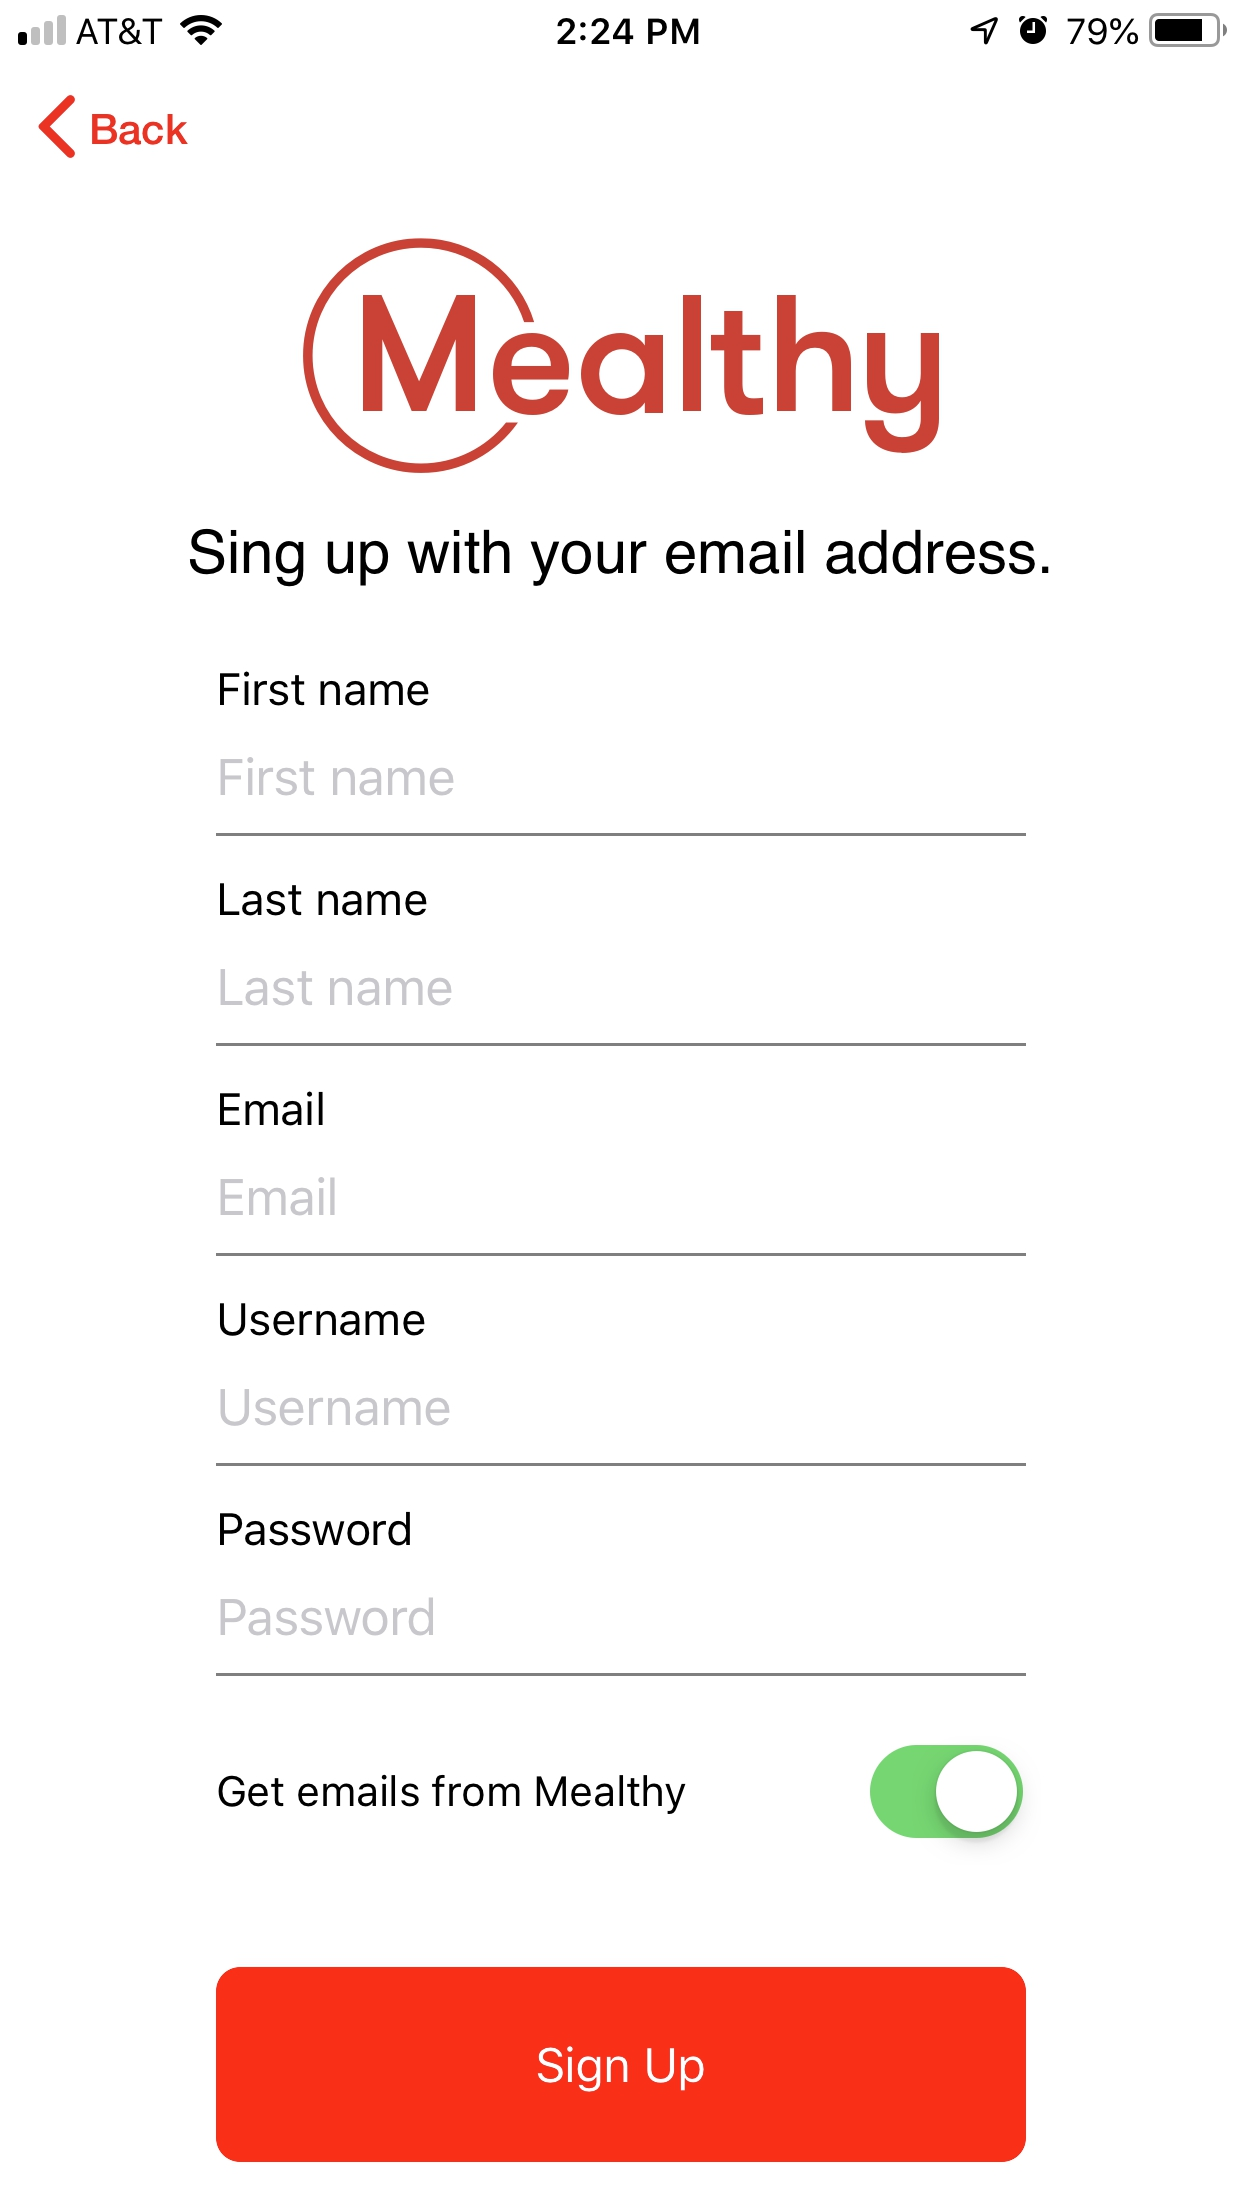EditText: (215, 1175, 1027, 1257), (215, 1597, 1027, 1677), (215, 757, 1027, 837), (215, 969, 1027, 1046), (217, 1389, 1027, 1466)
Icon: (39, 96, 77, 161)
Image: (303, 238, 940, 475)
Switch: (869, 1744, 1024, 1839)
Text: (190, 529, 1049, 588), (218, 1774, 687, 1815), (220, 757, 455, 798), (221, 969, 453, 1007), (220, 1389, 450, 1427), (218, 1598, 435, 1636), (220, 670, 431, 707), (220, 883, 428, 917), (220, 1303, 426, 1338), (220, 1512, 411, 1547), (220, 1177, 337, 1216), (220, 1090, 325, 1127), (93, 115, 190, 147)
TextButton: (215, 1967, 1027, 2163)
UpperTaskBar: (2, 2, 1242, 49)
